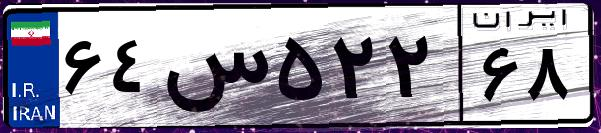2: (385, 28, 445, 110), (330, 28, 385, 110)
4: (110, 28, 158, 98)
5: (270, 28, 330, 110)
6: (57, 26, 110, 100), (475, 38, 525, 113)
8: (525, 38, 570, 115)
س: (158, 20, 270, 120)
